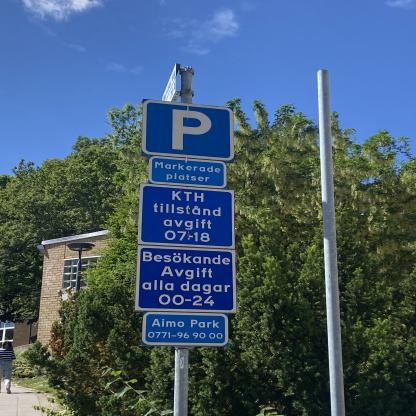P-skylt: (140, 98, 240, 162)
